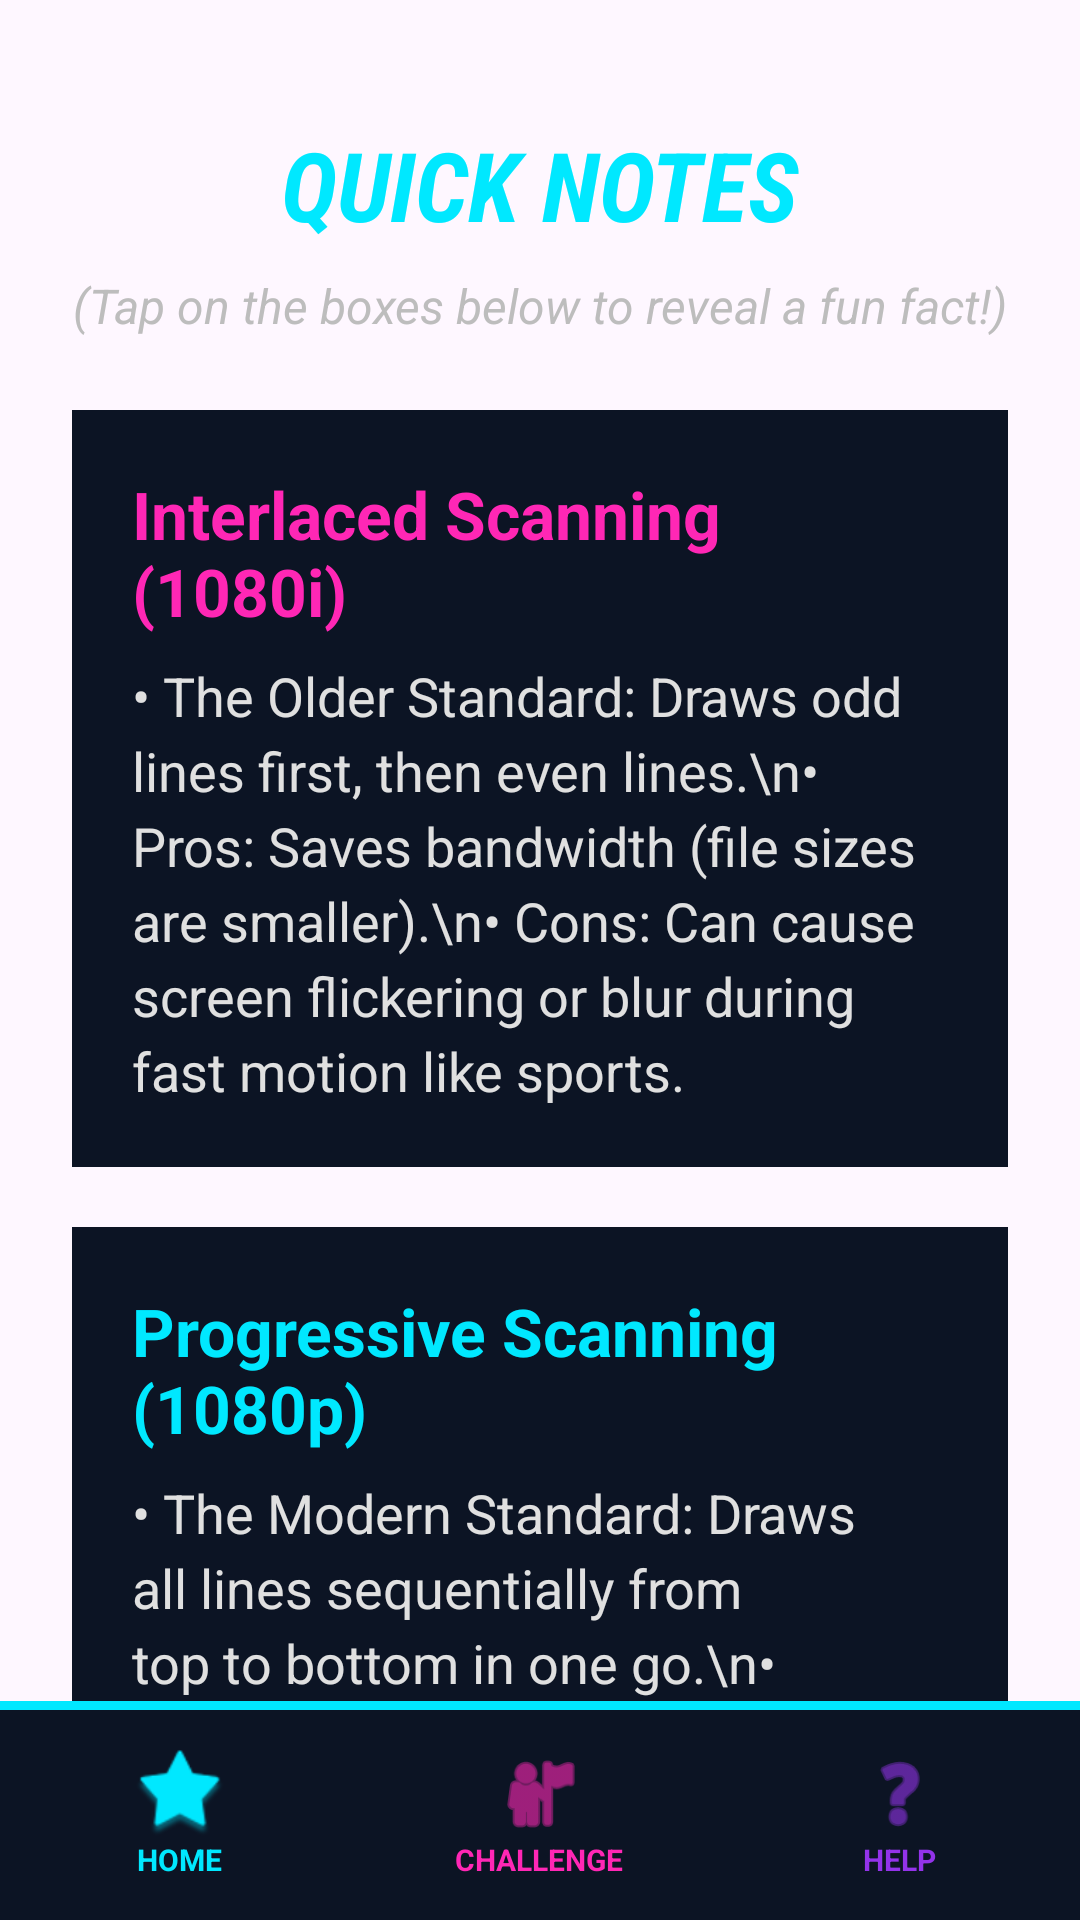

Icons on this 1080 x 1920 Android screen, each with its box as (x1, y1, x2, y2):
star on: (140, 1750, 220, 1831)
